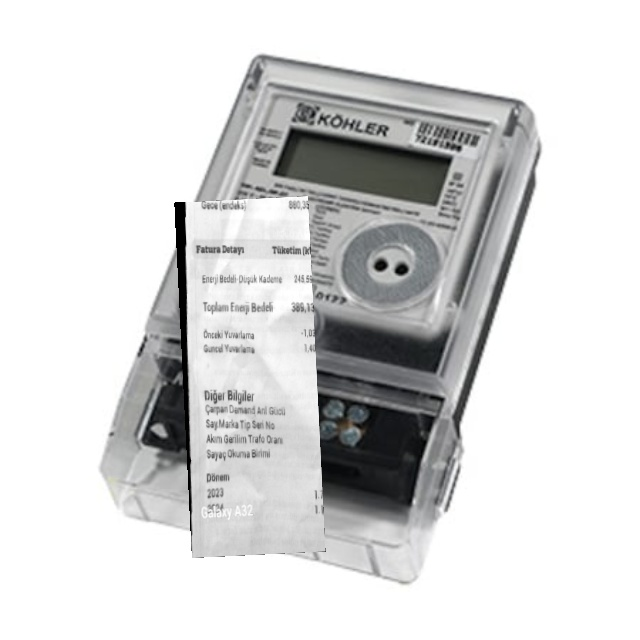electricity-bill: (174, 195, 326, 557)
